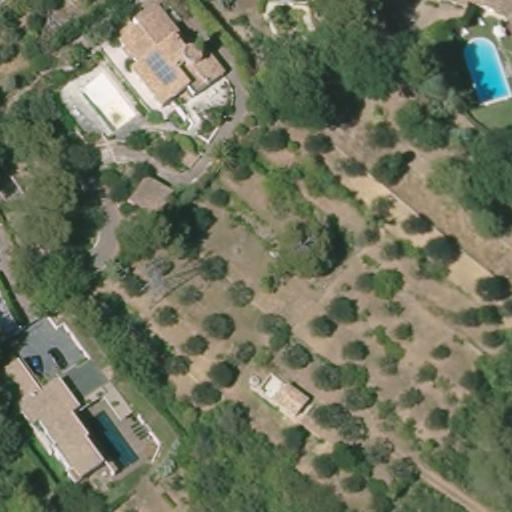pool: (455, 35, 511, 104)
